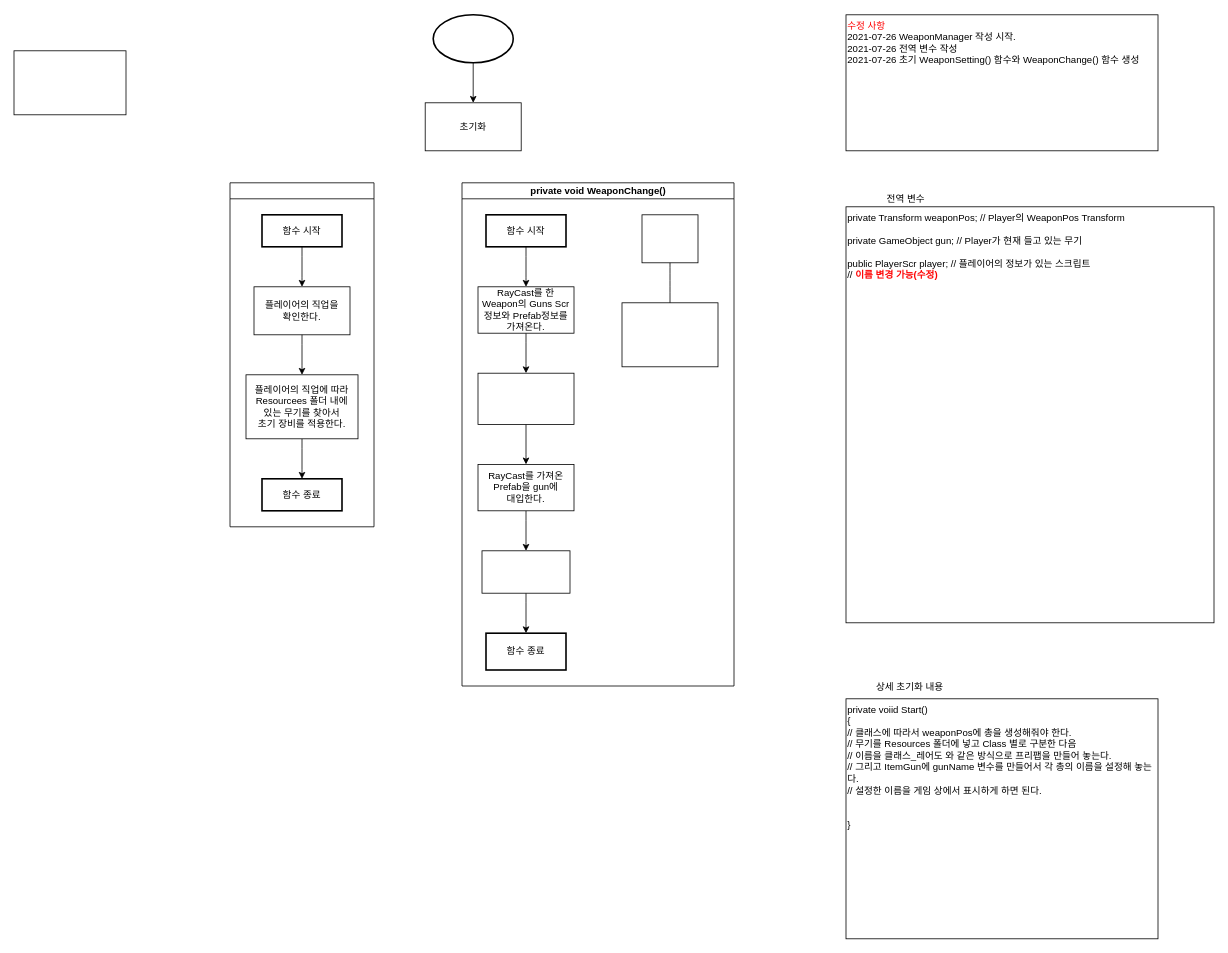
Image size: 1228x953. Some labels were removed from this diagram. The box of each missing label's shape, as (x1, y1, x2, y2) in pixels:
gun에 가져온 값을 WeaponPos에 생성한다.: (481, 550, 570, 593)
private void WeaponSetting(): (229, 182, 374, 527)
Start: (432, 14, 514, 63)
WeaponManager.cs Player의 WeaponPos에 붙어서 총의 정보를 관리할 매니저 스크립트: (13, 50, 126, 115)
무기 변경이 이루어지면 불러올 함수: (641, 214, 698, 263)
앞의 과정 만으로 무기가 교체되는지 잘 모르겠다. 과정이 더 필요할 수 있다.: (621, 302, 718, 367)
현재 가지고 있는 총을 내려 놓는다: (477, 372, 574, 424)
